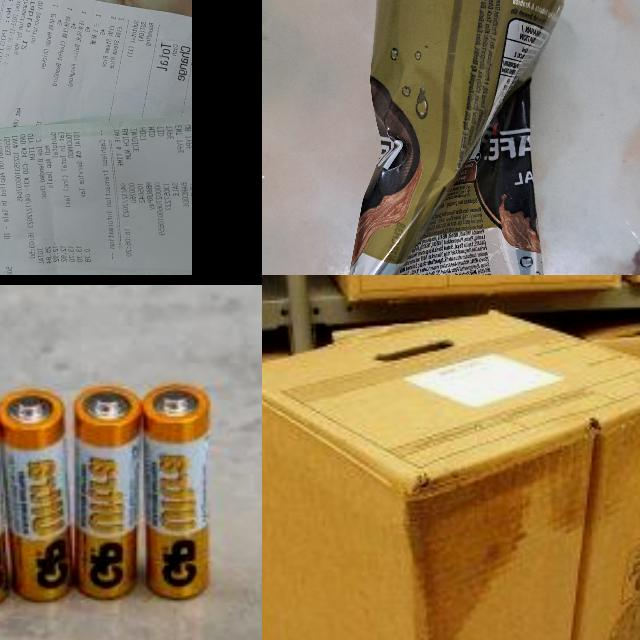bateria: (0, 389, 72, 604), (69, 384, 139, 602), (143, 384, 210, 602)
lata: (335, 0, 569, 275)
papel: (0, 0, 192, 275)
papelão: (262, 307, 640, 640), (315, 275, 623, 305)
